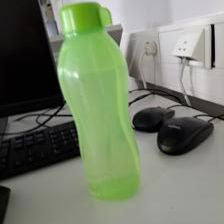bottle: (56, 1, 139, 201)
